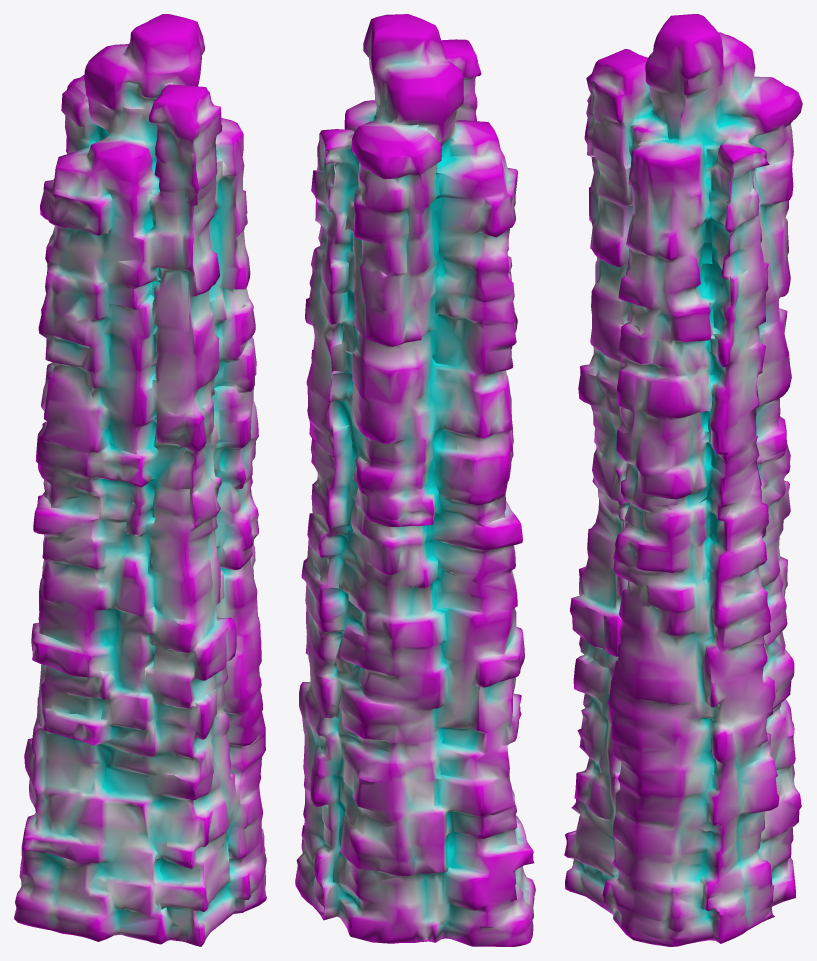
Rendered from Macico_1_Longe.fbx.
The picture shows the model from 3 angles, left to right: view 1: azimuth 30°, elevation 25°; view 2: azimuth 150°, elevation 25°; view 3: azimuth 270°, elevation 25°; orthographic projection.
Parts seen in each view (by area): view 1: Macico_1_Longe; view 2: Macico_1_Longe; view 3: Macico_1_Longe.
Part boxes in pixels (x1,y1,x2,y2): Macico_1_Longe: [14, 14, 266, 946]; Macico_1_Longe: [295, 14, 535, 946]; Macico_1_Longe: [564, 14, 802, 946].
Bounding box in the file's own units: 111 × 399 × 97.49.
